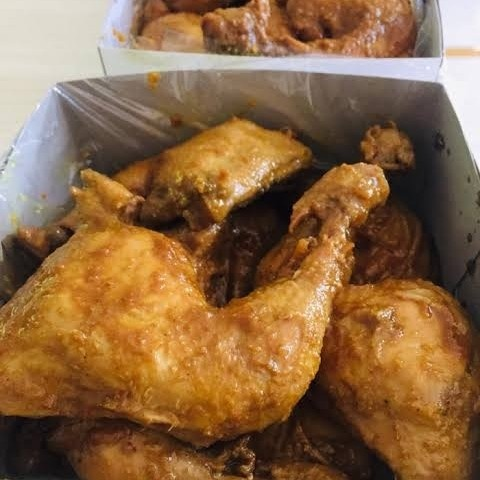ayam_goreng: (0, 219, 356, 442)
